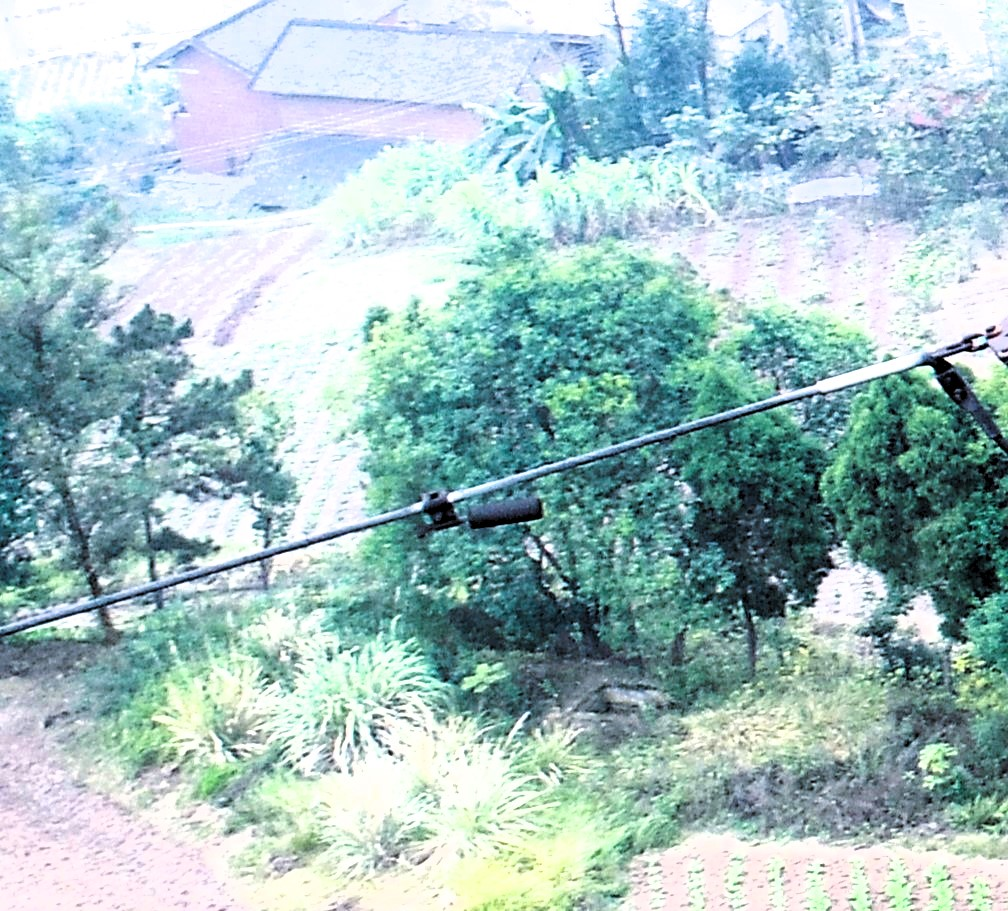Damage of shockproof hammer: (397, 467, 550, 547)
